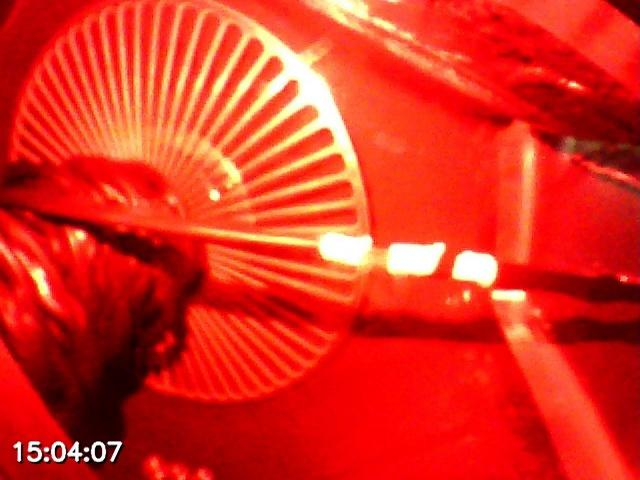white-dots: (316, 233, 498, 289)
